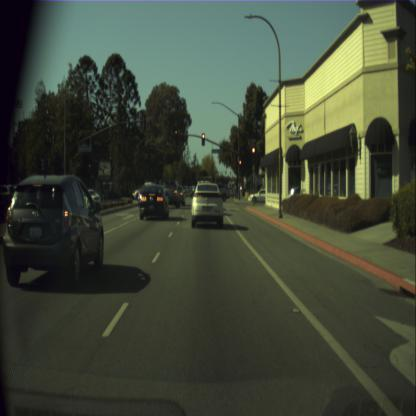Red: (174, 127, 178, 141), (251, 145, 254, 161), (238, 158, 242, 170), (202, 132, 204, 145)
